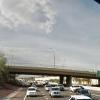Bridge: (8, 57, 98, 86)
